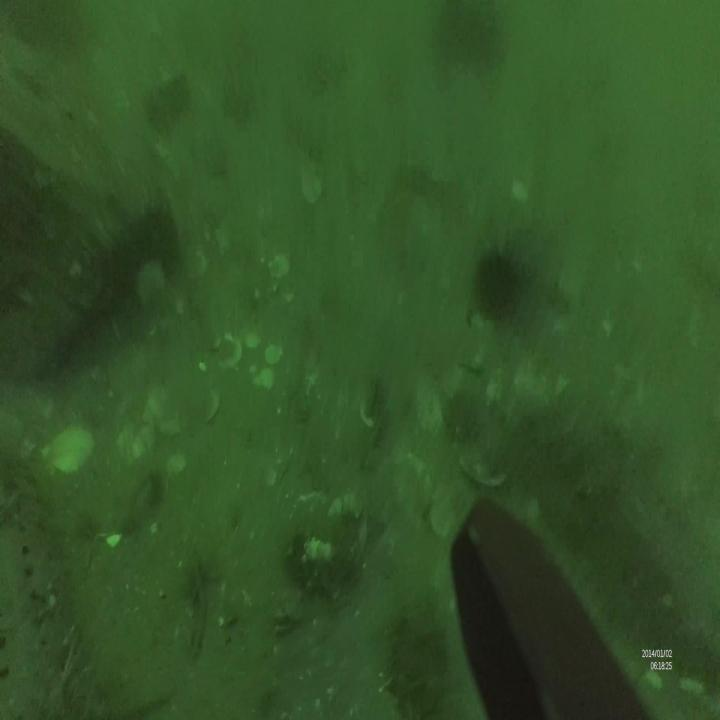echinus: (476, 244, 520, 326)
